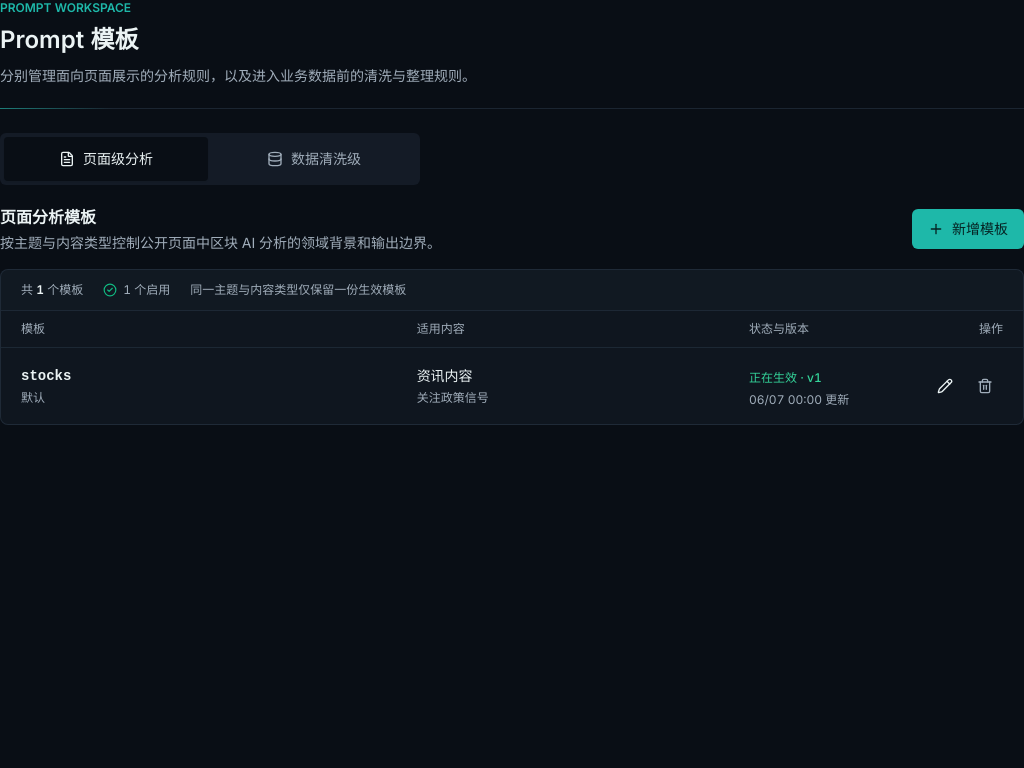
AdminPromptTemplatesPage › separates page analysis and data cleaning prompts
The image size is (1024, 768).
Check: the heading "Prompt 模板" is shown, box x1=0 y1=25 x2=139 y2=54
Check: the text "stocks" is shown, box x1=21 y1=366 x2=71 y2=386
Click the tab "数据清洗级" at (314, 159), box x1=212 y1=137 x2=416 y2=181
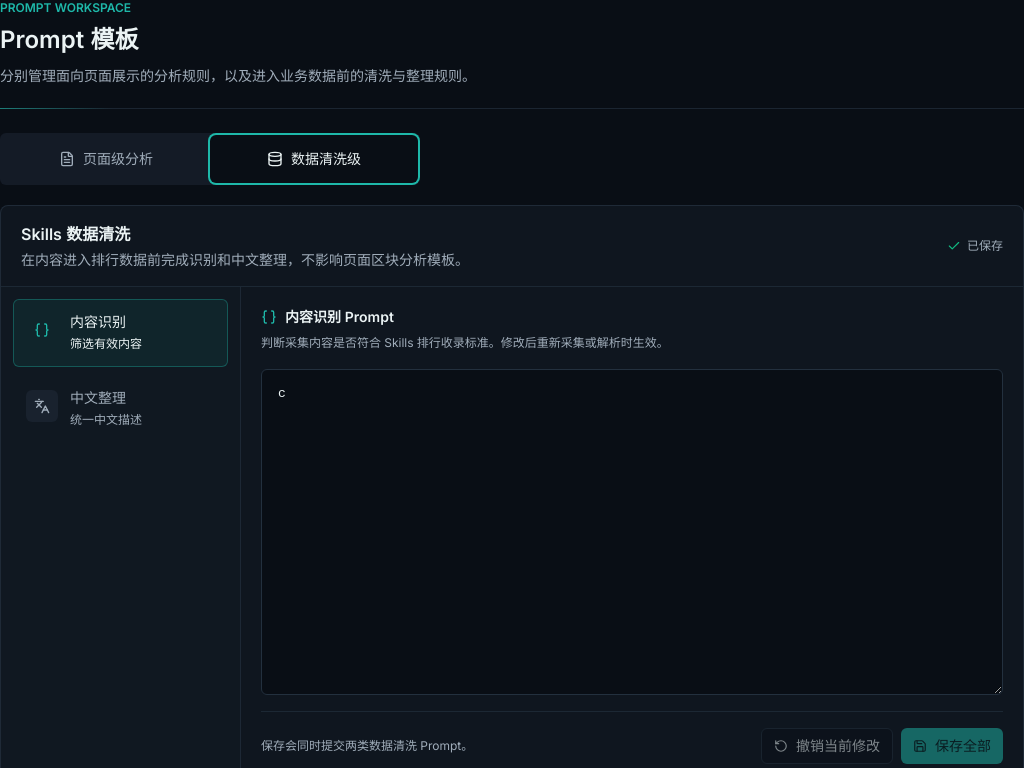
Check: the heading "Skills 数据清洗" is shown, box x1=21 y1=224 x2=130 y2=244
Check: the button "内容识别 筛选有效内容" is shown, box x1=13 y1=299 x2=228 y2=367
Check: the button "中文整理 统一中文描述" is shown, box x1=13 y1=375 x2=228 y2=443
